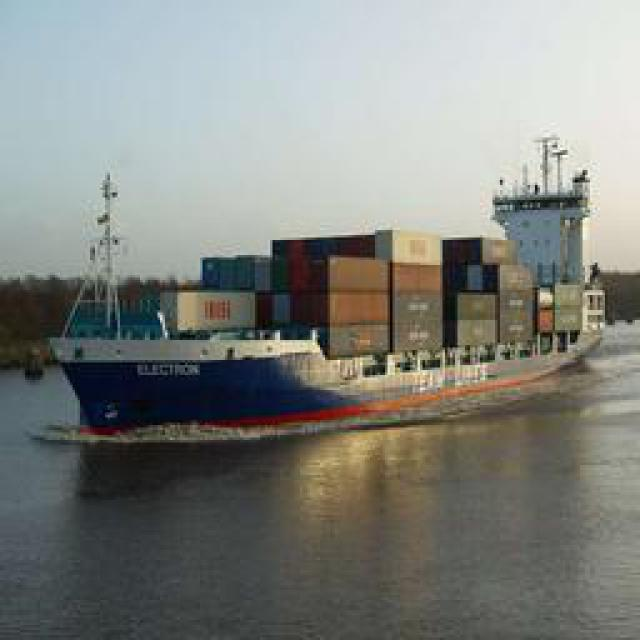Ship: (45, 164, 618, 454)
